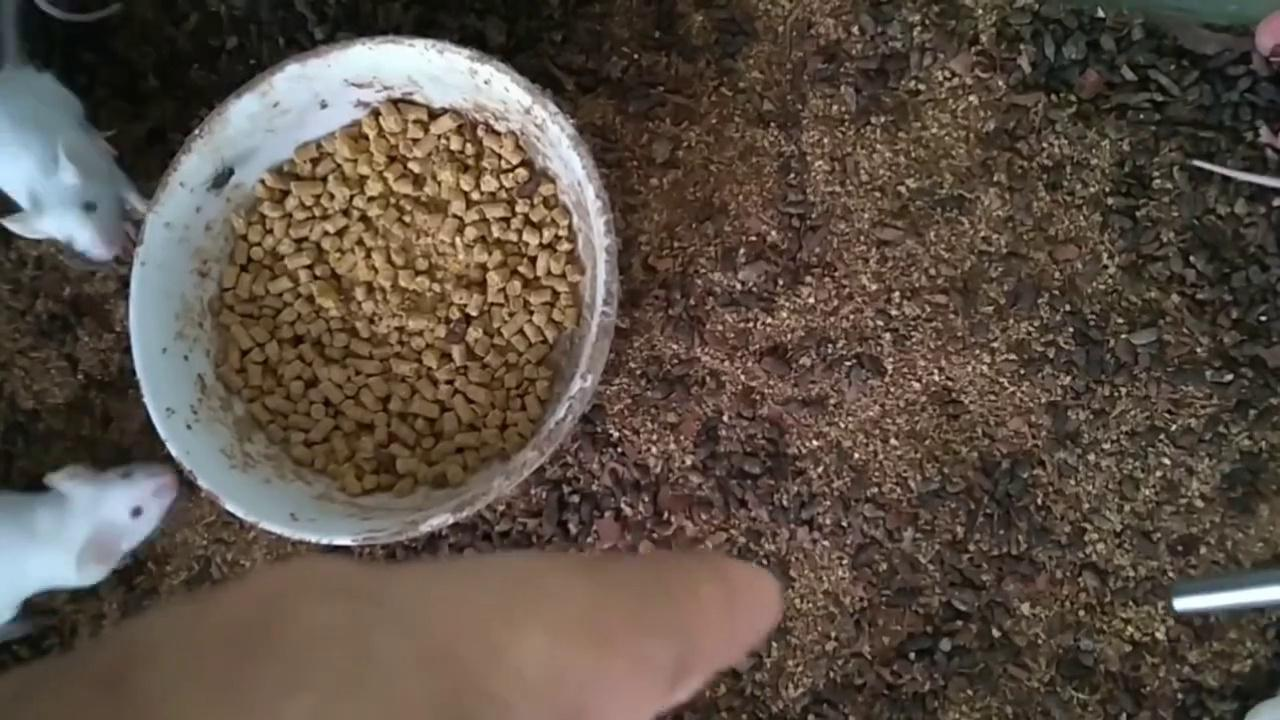rat: (0, 0, 152, 261), (0, 462, 178, 624)
